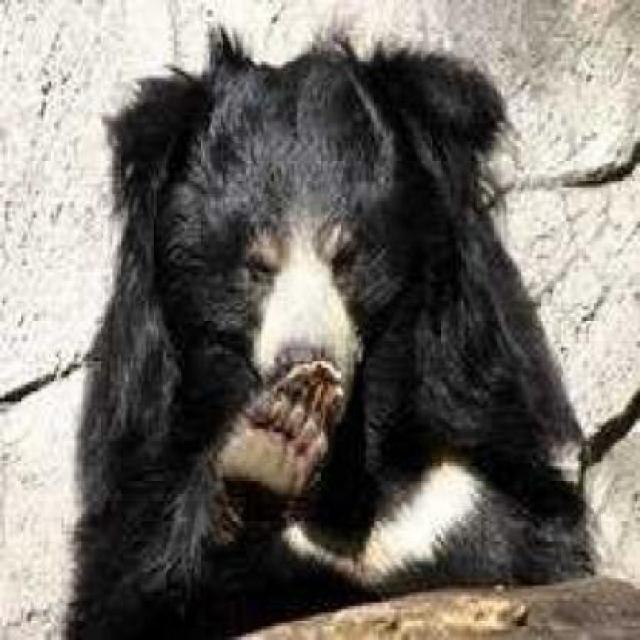Bear: (124, 15, 639, 639)
